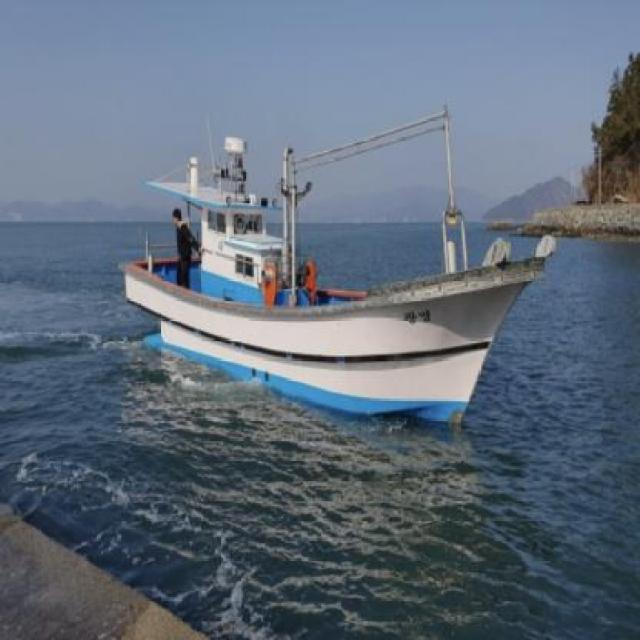Ship: (134, 150, 551, 450)
